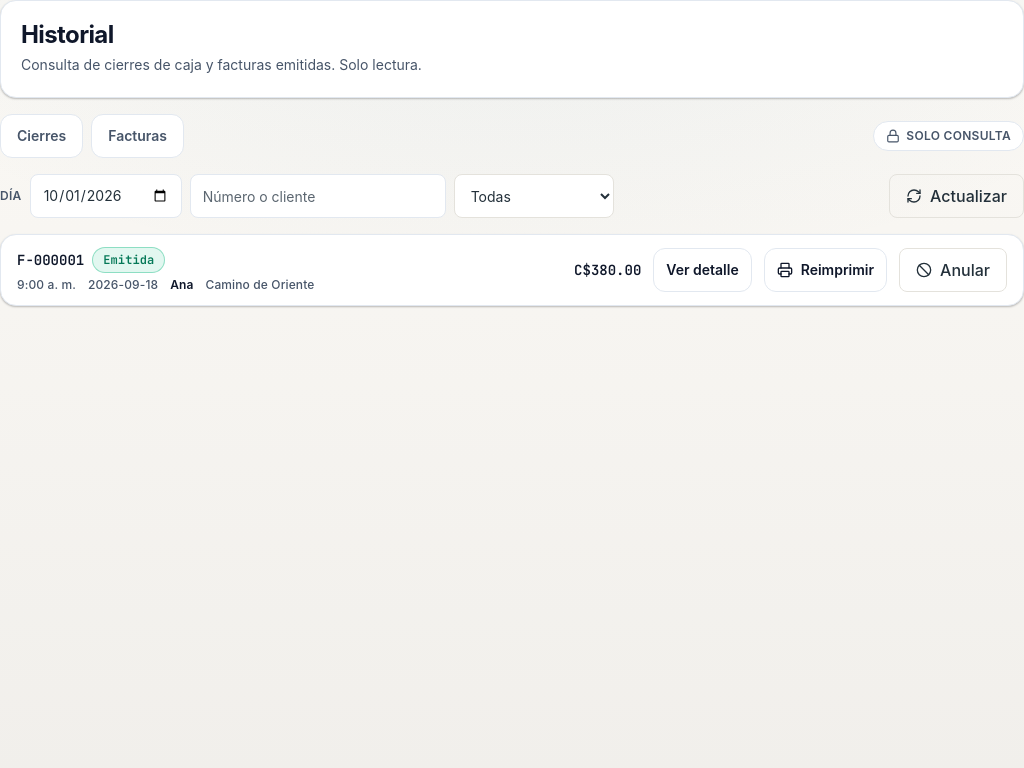
Test case: Historial › Facturas › anular pide el motivo de la lista y deja la fila como anulada
Expected: the text "F-000001" is shown, top-left (17, 251), bottom-right (84, 269)
Click the button "Anular": coordinates (953, 270) top-left (899, 248), bottom-right (1007, 292)
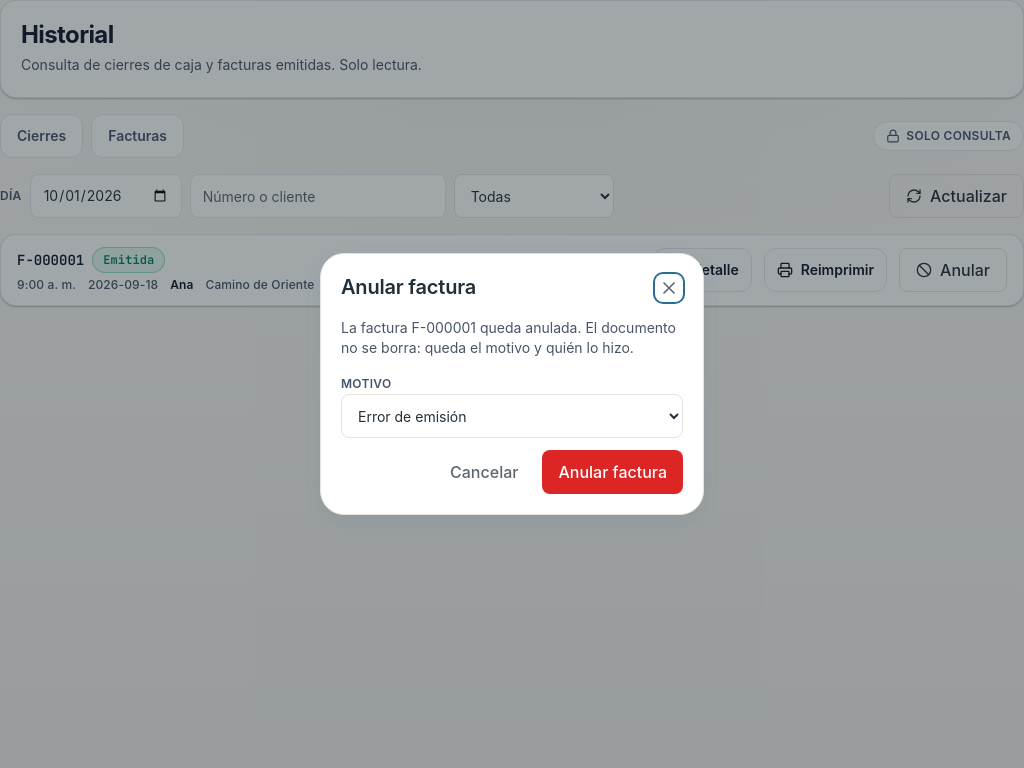
Click the button "Anular factura": coordinates (613, 472) top-left (542, 450), bottom-right (683, 494)
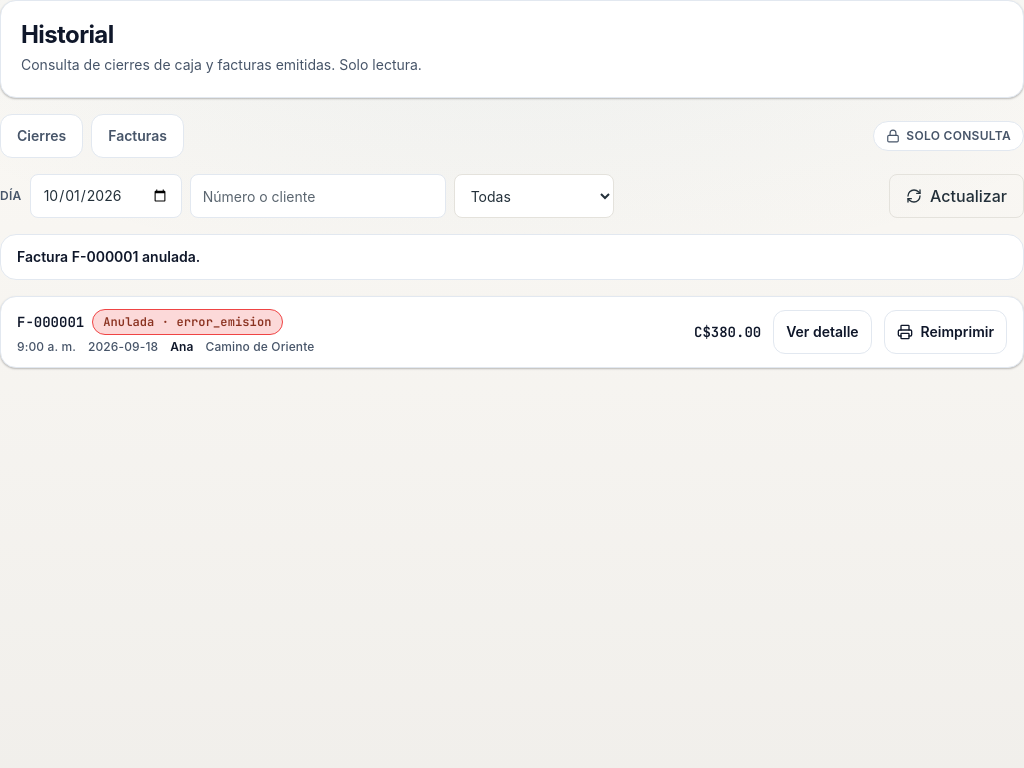
Expected: the text "F-000001" is shown, top-left (17, 313), bottom-right (84, 331)
Expected: the message "Factura F-000001 anulada." is shown, top-left (0, 234), bottom-right (1023, 280)
Expected: the button "Anular" is gone
